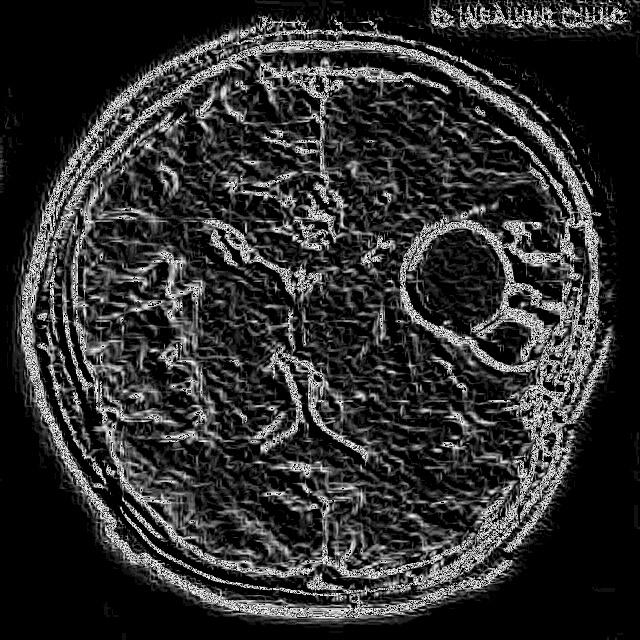Brain-Tumor: (390, 203, 556, 382)
